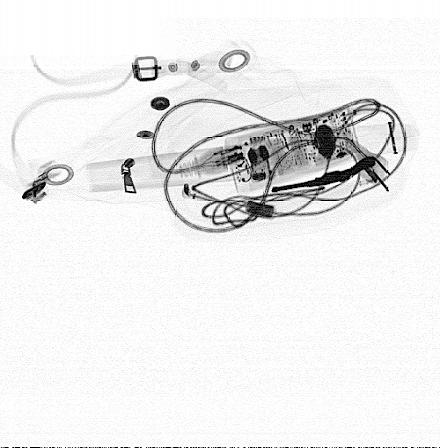Gun: (272, 156, 377, 196)
